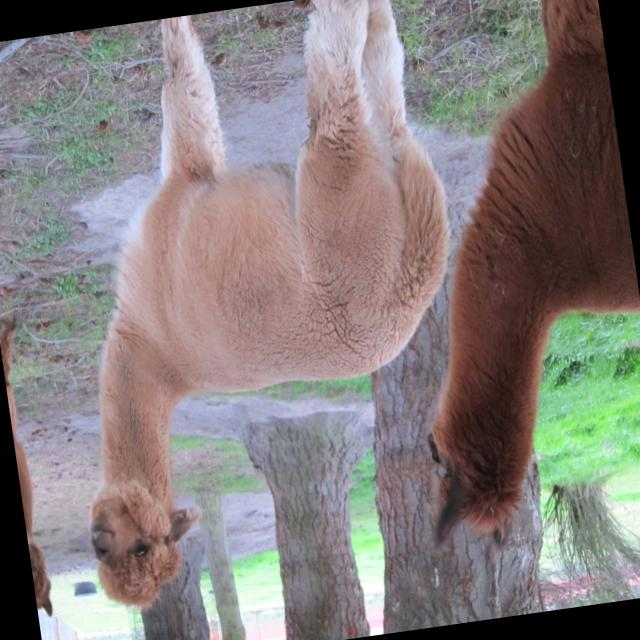alpaca: (21, 0, 494, 614), (351, 0, 640, 558), (0, 318, 66, 621)
